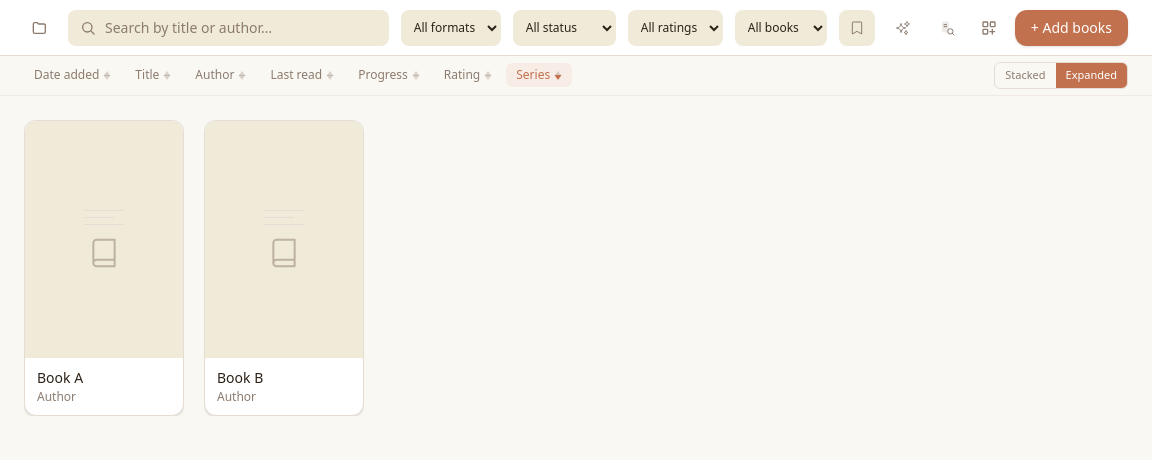
Test: Library — want-to-read filter › shows the no-match empty state when nothing is flagged
Expected: the text "Book A" is shown, x1=37 y1=368 x2=83 y2=386
Click the button named "Want to read" at (857, 28), box x1=839 y1=10 x2=875 y2=46
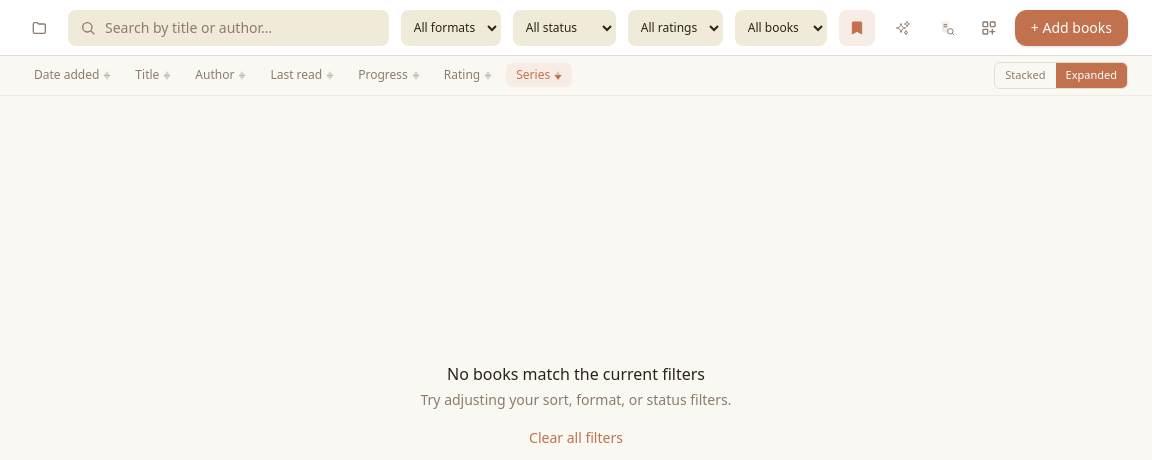
Now the text "No books match the current filters" is shown, box x1=447 y1=362 x2=705 y2=386
Now the button "Book A" is gone
